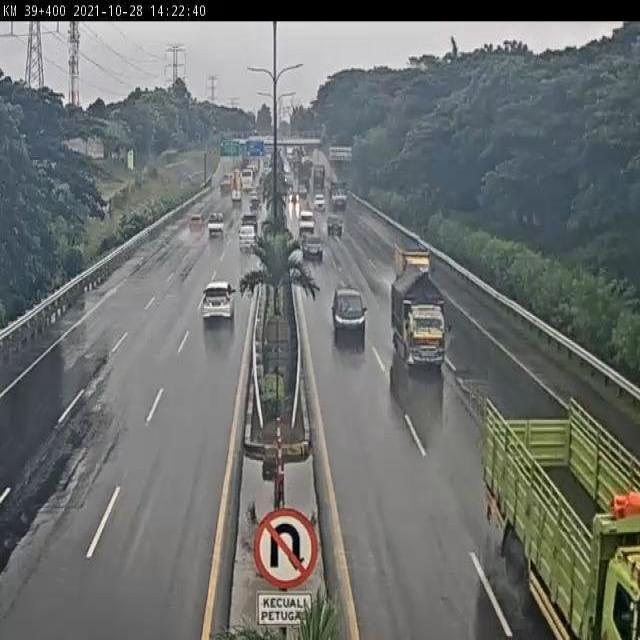big truck: (483, 402, 640, 640)
car: (331, 288, 369, 347), (392, 244, 436, 291), (200, 277, 238, 327), (233, 227, 257, 254), (297, 209, 318, 239), (303, 233, 324, 263), (206, 210, 225, 238), (327, 213, 344, 240), (311, 193, 328, 212), (188, 214, 204, 234)
small truck: (385, 267, 456, 373), (230, 188, 246, 207)
